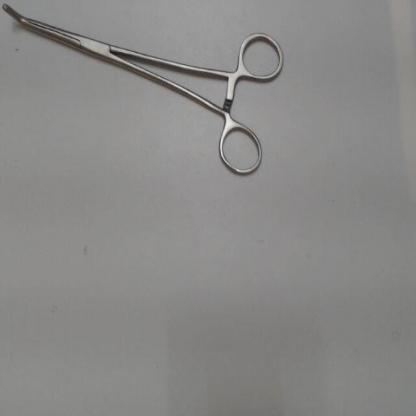Lahey Forceps: (1, 0, 287, 180)
